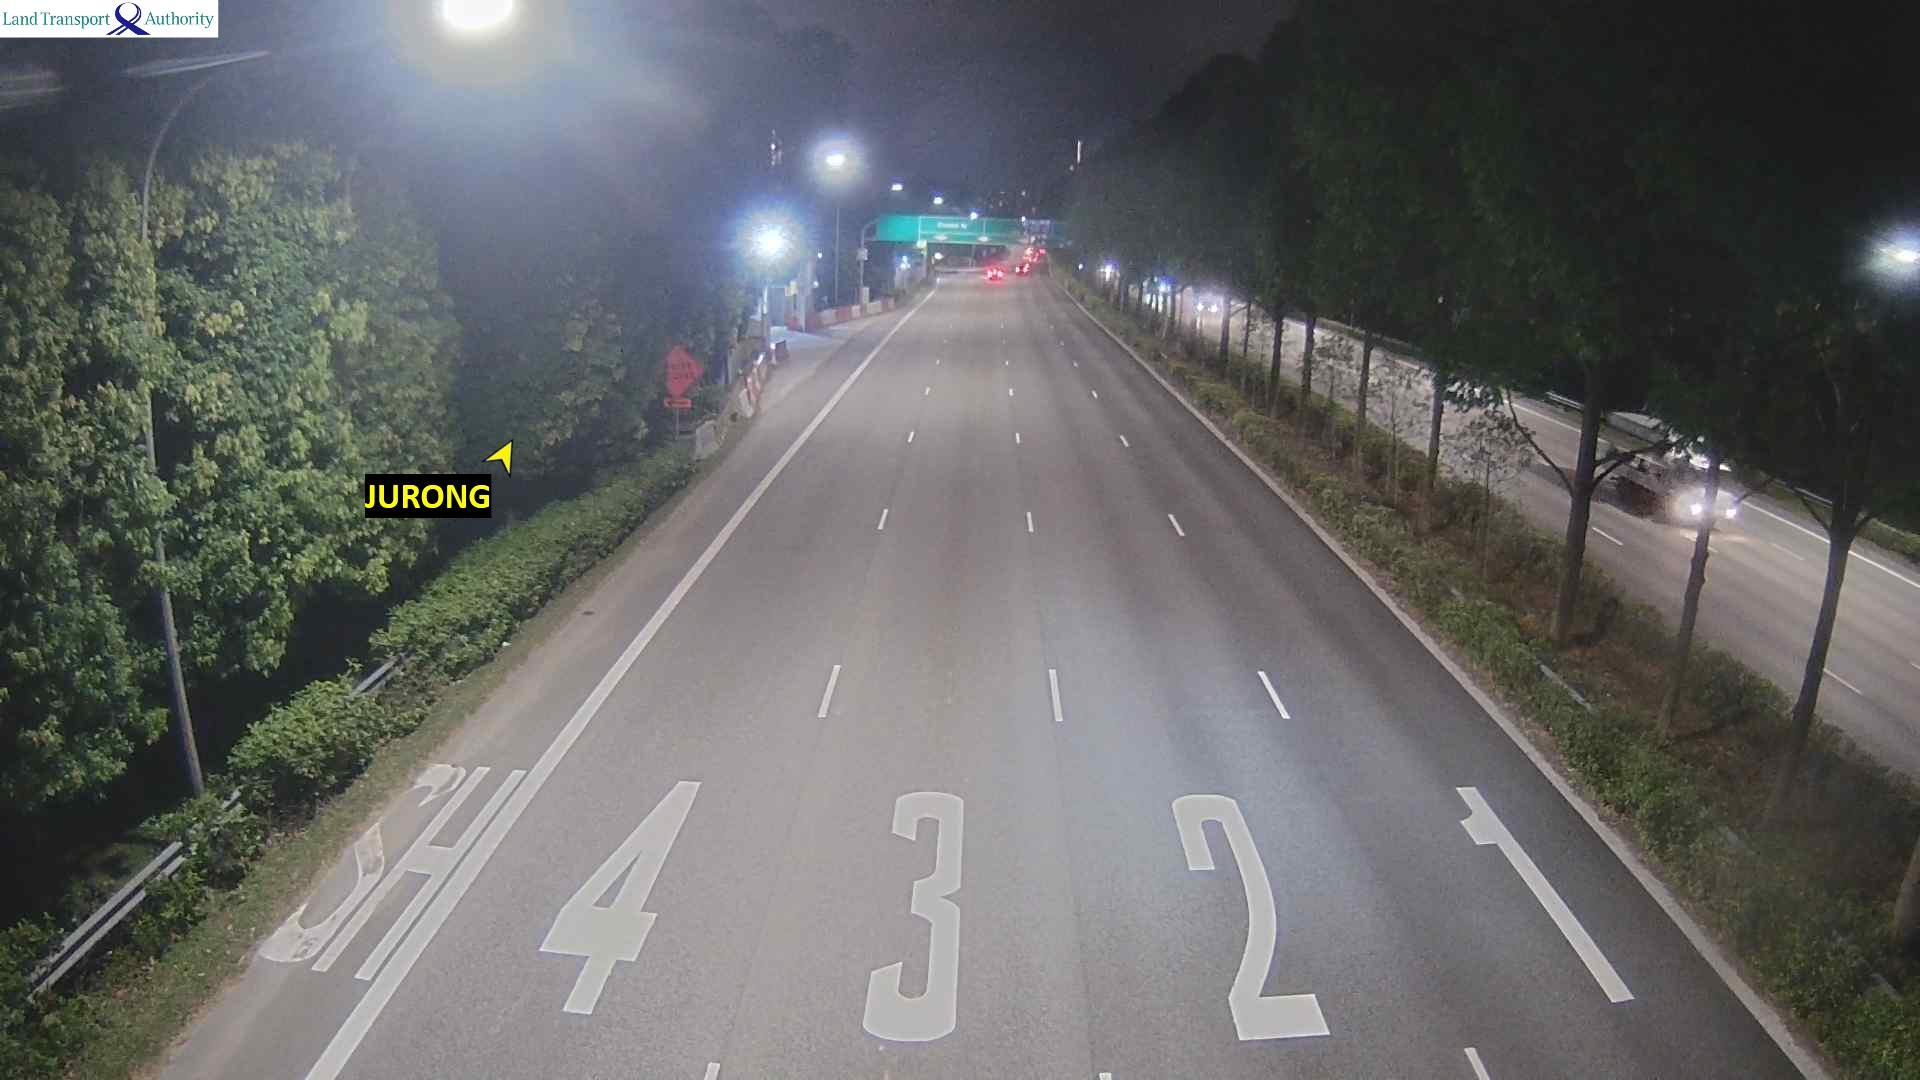cars: (1196, 294, 1227, 320), (983, 265, 1003, 282), (1013, 258, 1031, 274)
trucks: (1603, 408, 1741, 521)
